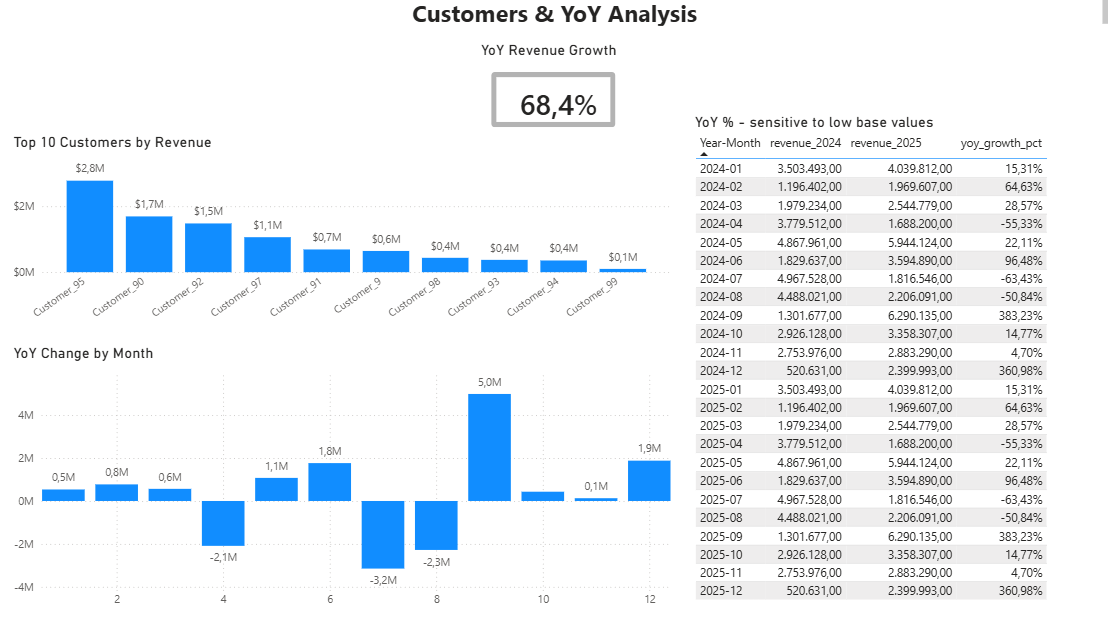

The page's visual inventory and layout, read from the dashboard file:
{"tool":"powerbi","page":{"name":"Customers & YoY Analysis","canvas":[1280,720],"ordinal":1},"visuals":[{"type":"textbox","box":[10.5,0,1269.5,43],"z":0},{"type":"cardVisual","title":"YoY Revenue Growth","fields":{"Data":["vw_yoy_revenue.YoY Growth %"]},"box":[551.7,53.9,176.6,116.5],"z":1000},{"type":"columnChart","title":"Top 10 Customers by Revenue","fields":{"Category":["vw_customer_revenue.customer_name"],"Y":["Sum(vw_customer_revenue.total_revenue)"]},"box":[17.2,159.4,761.4,228],"z":3000},{"type":"columnChart","title":"YoY Change by Month","fields":{"Y":["vw_yoy_revenue.YoY Change"],"Category":["vw_yoy_revenue.month"]},"box":[17.2,400.9,761.4,310.2],"z":4000},{"type":"tableEx","title":"YoY % - sensitive to low base values","fields":{"Values":["vw_monthly_revenue.Year-Month","vw_yoy_revenue.revenue_2024","vw_yoy_revenue.revenue_2025","vw_yoy_revenue.yoy_growth_pct"]},"box":[795.7,159.4,445.1,551.7],"z":4001}]}

Visuals, with their boxes in screenshot pixels (x1, y1, x2, y2), scaled from the page's 1280x720 canvas onto the 1108x617 screenshot:
textbox: <bbox>9, 0, 1107, 37</bbox>
"YoY Revenue Growth" cardVisual: <bbox>478, 46, 630, 146</bbox>
"Top 10 Customers by Revenue" columnChart: <bbox>15, 137, 674, 332</bbox>
"YoY Change by Month" columnChart: <bbox>15, 344, 674, 609</bbox>
"YoY % - sensitive to low base values" tableEx: <bbox>689, 137, 1074, 609</bbox>
